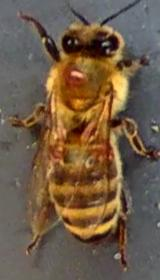varroa_mite: (62, 63, 96, 93), (78, 136, 120, 156), (46, 132, 70, 160)
